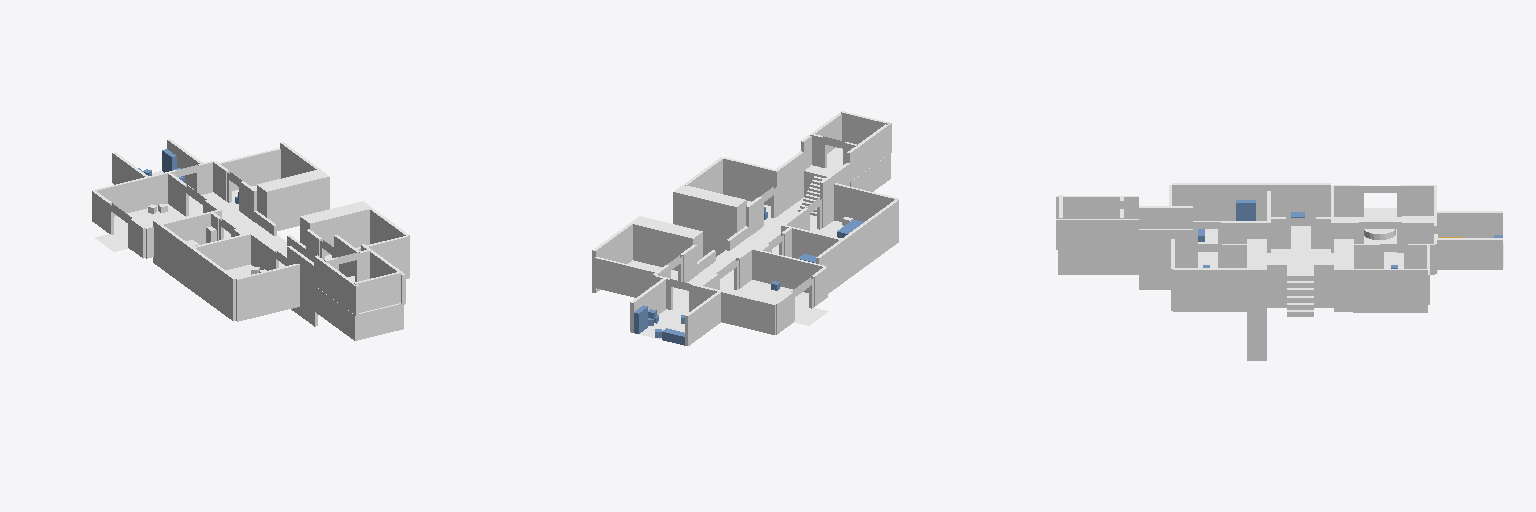
File: casassasd.obj
3 views of the same model, side by side, from view 1: azimuth 30°, elevation 25°; view 2: azimuth 150°, elevation 25°; view 3: azimuth 270°, elevation 25° (orthographic).
Parts seen in each view (by area): view 1: casassasd; view 2: casassasd; view 3: casassasd.
Boxes of the visible parts, x1=… form: casassasd: x1=92, y1=139, x2=409, y2=340; casassasd: x1=592, y1=111, x2=898, y2=345; casassasd: x1=1056, y1=183, x2=1503, y2=360.
Size of the model in its own units: 40.55 by 21.16 by 77.39.